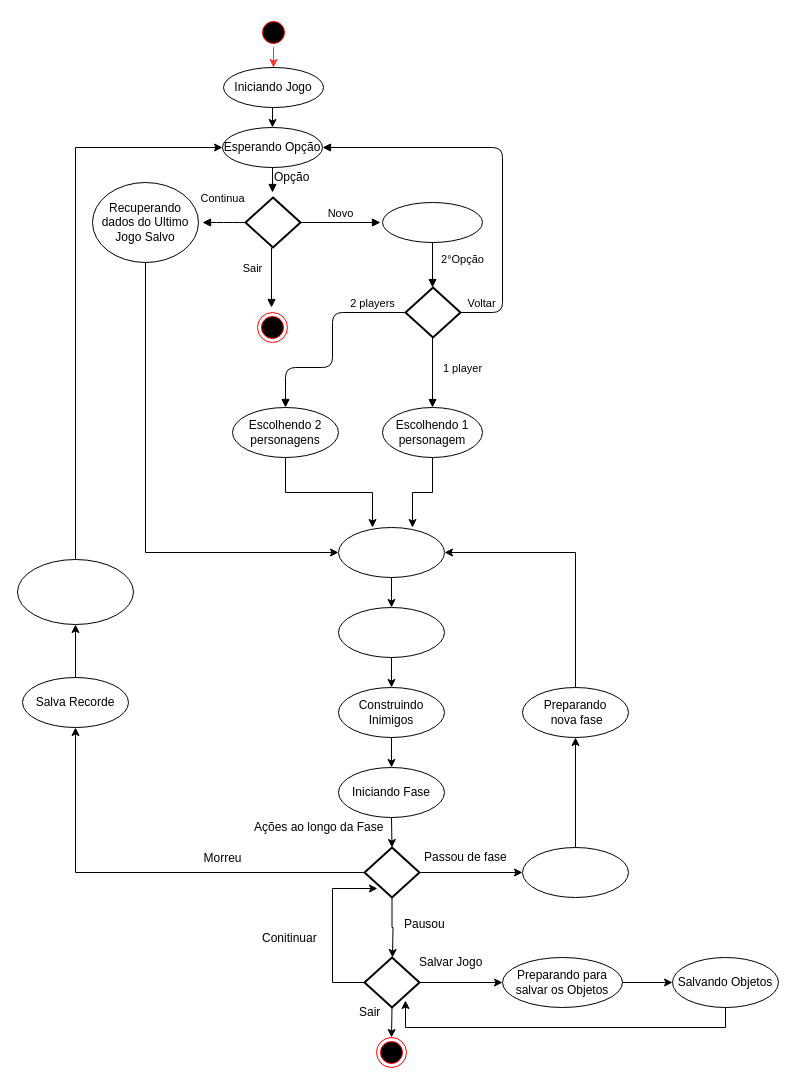
Image size: 796x1085. Some labels were removed from this diagram. The centre of each missing label's shape, as x and y in pixels:
"Construindo Cenário" goes at point (391, 632).
"Construindo Fase" goes at point (391, 552).
"Destruindo fase antiga" goes at point (575, 872).
"Esperando 2° Opção" goes at point (432, 222).
"Mostra posição no placar" goes at point (75, 591).
